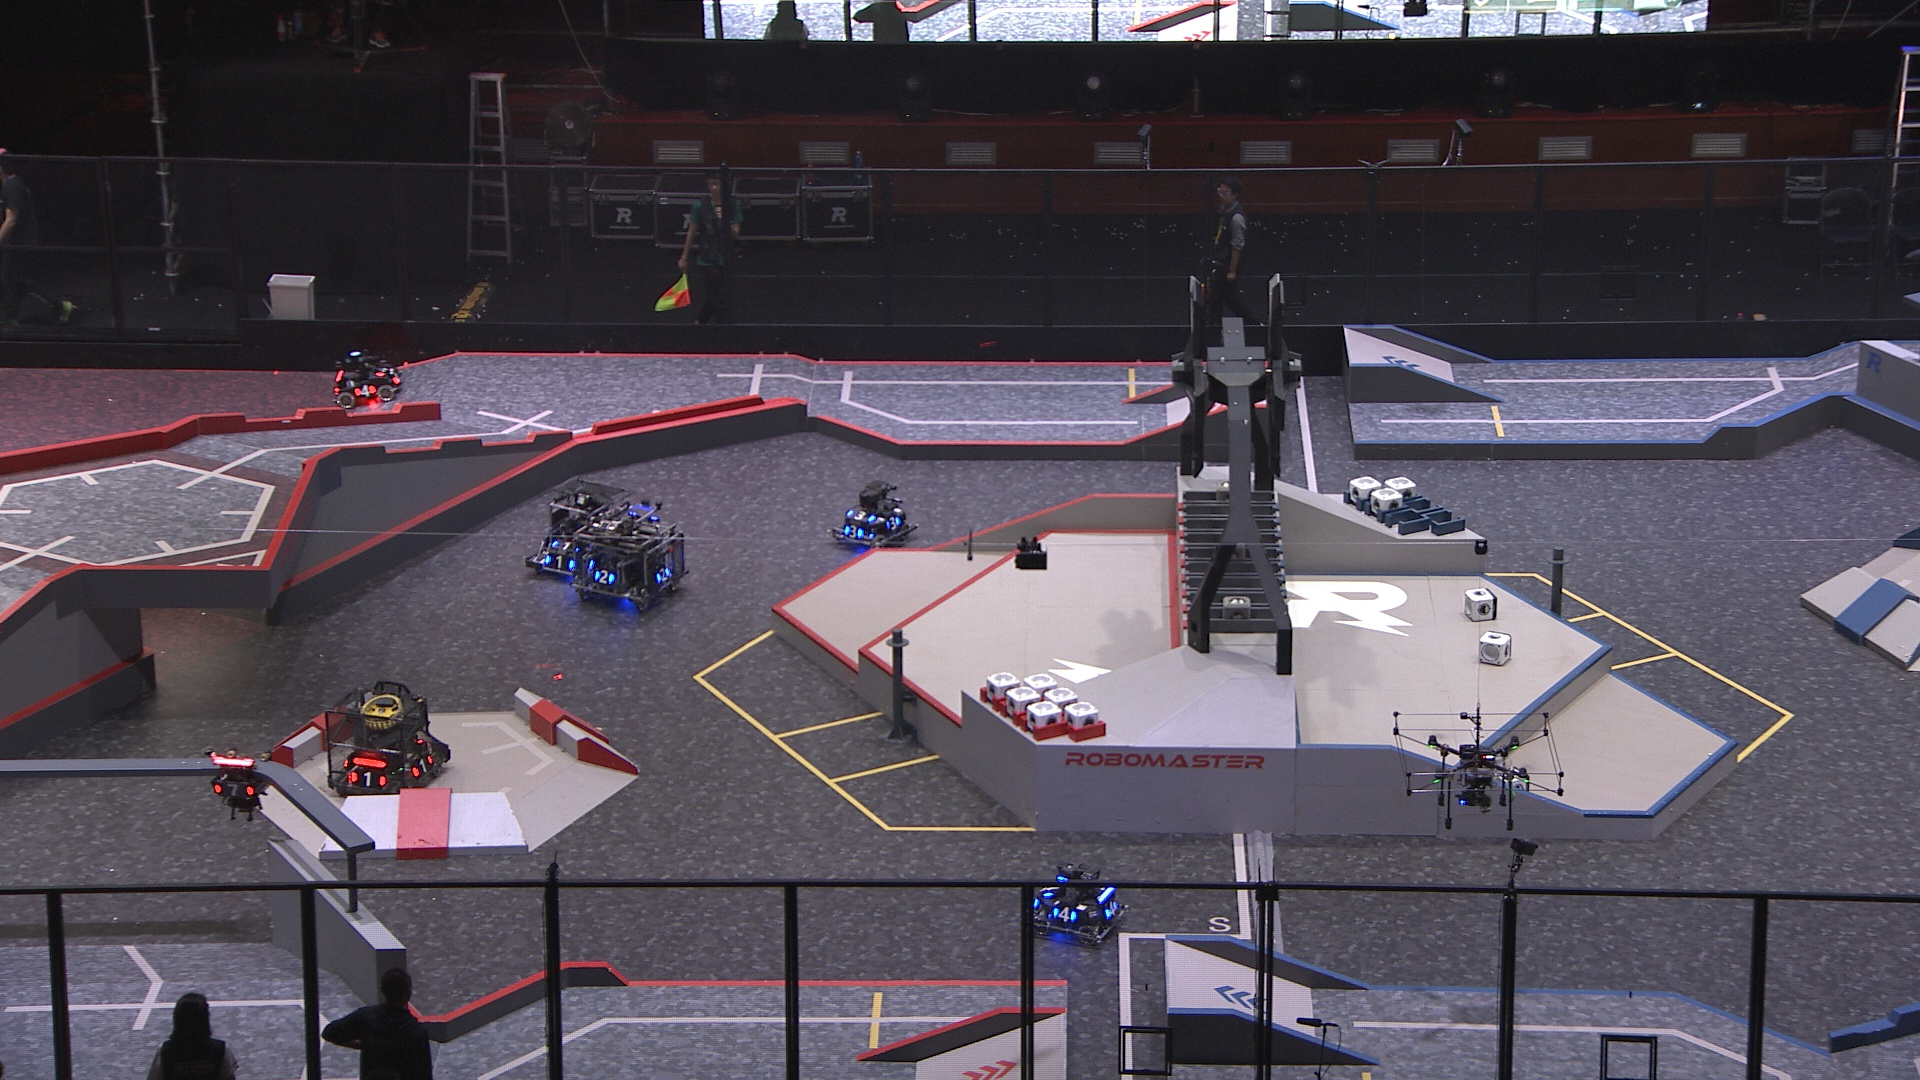armor: (211, 781, 258, 798), (347, 770, 386, 787), (542, 553, 576, 571), (413, 756, 436, 781), (849, 506, 878, 522), (1051, 907, 1079, 922), (551, 537, 579, 551), (1040, 880, 1060, 898), (593, 568, 615, 585), (353, 384, 376, 400), (372, 360, 389, 380), (655, 567, 673, 584), (1105, 898, 1120, 918), (843, 524, 861, 538), (884, 516, 902, 529)
car: (324, 680, 447, 794), (574, 502, 688, 608), (526, 477, 636, 582), (1029, 860, 1126, 943), (831, 477, 915, 551), (332, 352, 405, 414)
watcher: (206, 746, 278, 822)
